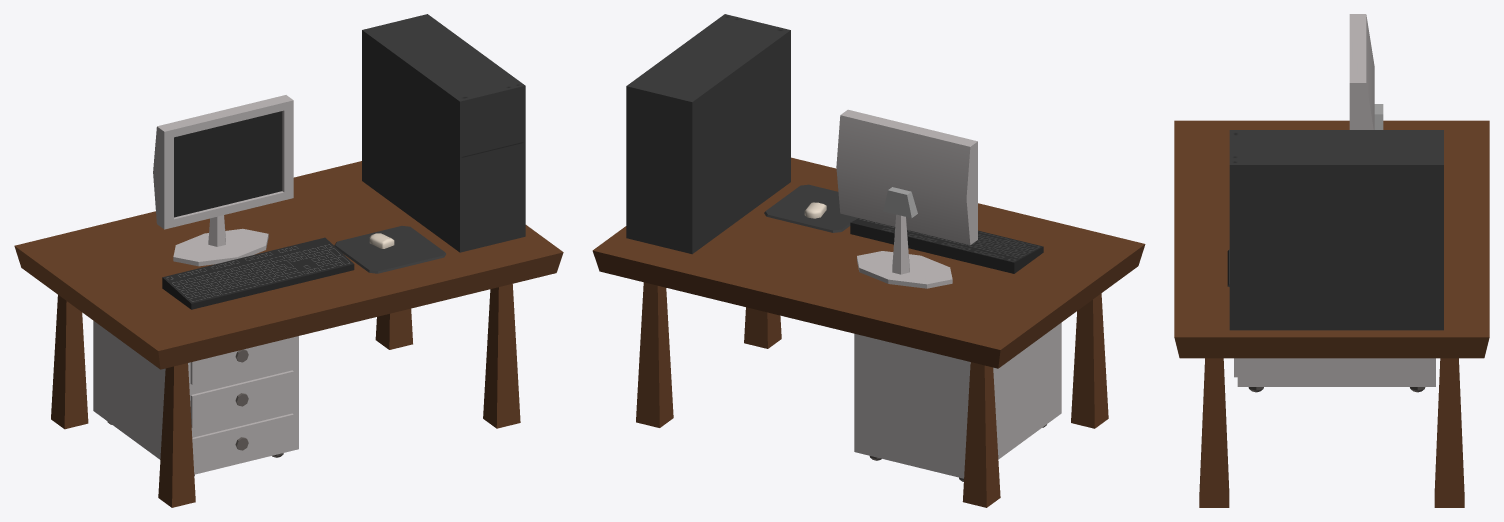
Rendered from computer_desk.fbx.
The picture shows the model from 3 angles, left to right: view 1: azimuth 30°, elevation 25°; view 2: azimuth 150°, elevation 25°; view 3: azimuth 270°, elevation 25°; orthographic projection. The views are drawn at different scales.
Parts seen in each view (by area): view 1: polySurface10, polySurface9, polySurface22, polySurface1, polySurface5, polySurface2, polySurface13, polySurface11, polySurface14, polySurface4, polySurface7, polySurface12; view 2: polySurface10, polySurface9, polySurface22, polySurface2, polySurface12, polySurface14, polySurface5, polySurface13, polySurface4, polySurface7, polySurface11, polySurface8 (+1 smaller); view 3: polySurface9, polySurface10, polySurface22, polySurface11, polySurface12, polySurface2.
Boxes of the visible parts, <box> form: polySurface10: <box>14,161,563,369</box>; polySurface9: <box>362,14,525,252</box>; polySurface22: <box>93,321,298,474</box>; polySurface1: <box>174,111,282,217</box>; polySurface5: <box>162,237,354,309</box>; polySurface2: <box>153,95,293,229</box>; polySurface13: <box>158,363,195,507</box>; polySurface11: <box>483,284,520,428</box>; polySurface14: <box>51,295,88,429</box>; polySurface4: <box>334,226,445,273</box>; polySurface7: <box>173,228,268,266</box>; polySurface12: <box>375,308,412,349</box>; polySurface10: <box>592,157,1145,368</box>; polySurface9: <box>626,14,790,254</box>; polySurface22: <box>854,322,1061,478</box>; polySurface2: <box>836,109,977,245</box>; polySurface12: <box>636,282,673,427</box>; polySurface14: <box>962,362,1000,507</box>; polySurface5: <box>850,218,1043,273</box>; polySurface13: <box>1071,293,1108,428</box>; polySurface4: <box>764,184,858,232</box>; polySurface7: <box>857,251,952,288</box>; polySurface11: <box>744,307,781,348</box>; polySurface8: <box>892,214,909,274</box>; polySurface9: <box>1229,130,1443,330</box>; polySurface10: <box>1174,120,1489,358</box>; polySurface22: <box>1234,358,1435,386</box>; polySurface11: <box>1199,358,1229,507</box>; polySurface12: <box>1434,358,1464,507</box>; polySurface2: <box>1349,14,1374,129</box>.
Size of the model in its own units: 136 by 104 by 83.8.
